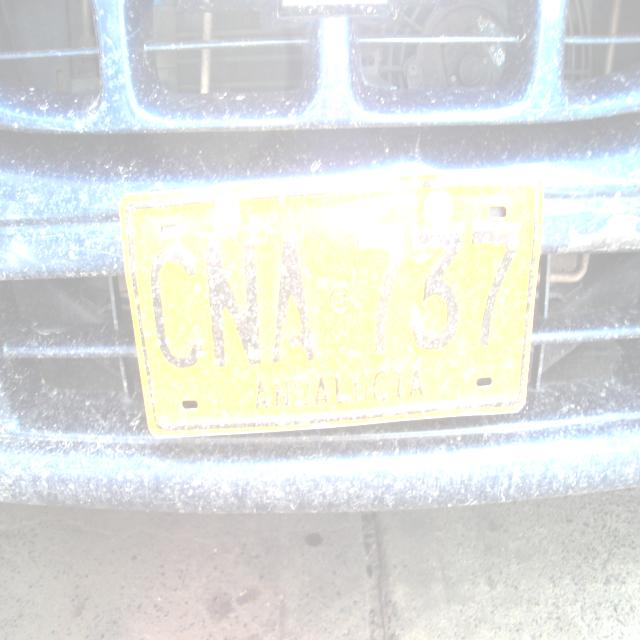placa: (112, 166, 548, 444)
